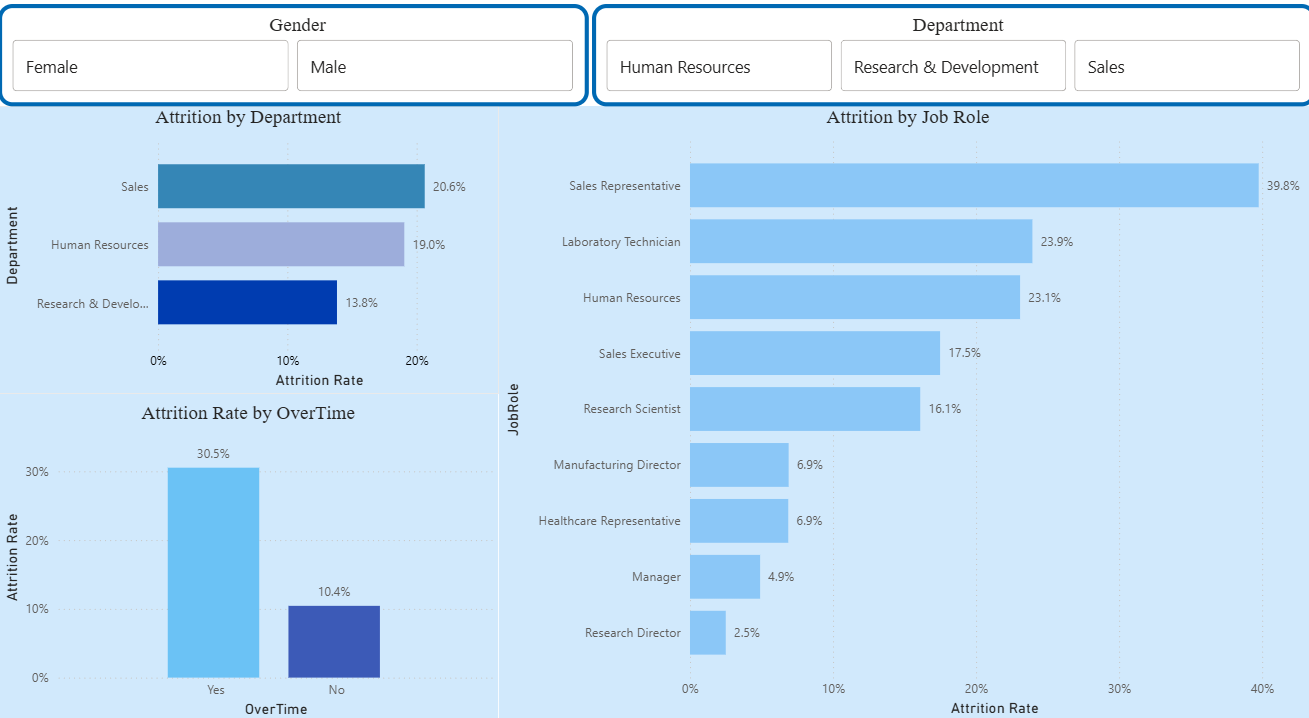

This screenshot's page, from the dashboard's own definition file:
{"tool":"powerbi","page":{"name":"Attrition Analysis","canvas":[1280,720],"ordinal":1},"visuals":[{"type":"clusteredBarChart","title":"Attrition by Department","fields":{"Y":["employee.Attrition Count"],"Category":["employee.Department"]},"box":[0,128.8,450.1,272],"z":0},{"type":"clusteredBarChart","title":"Attrition by Job Role","fields":{"Category":["employee.JobRole"],"Y":["employee.Attrition Rate (%)"]},"box":[476.8,185.7,705.4,451.8],"z":1000},{"type":"clusteredBarChart","fields":{"Category":["employee.OverTime"],"Y":["CountNonNull(employee.Attrition)"]},"box":[0,413.6,427.9,307],"z":2000},{"type":"advancedSlicerVisual","fields":{"Values":["employee.Gender"]},"box":[38.2,23.9,536,98.6],"z":3000},{"type":"advancedSlicerVisual","fields":{"Values":["employee.Department"]},"box":[575,30.4,703.6,91.1],"z":4000}]}

Visuals, with their boxes in screenshot pixels (x1, y1, x2, y2), scaled from the page's 1280x720 canvas onto the 1309x718 screenshot:
"Attrition by Department" clusteredBarChart: box=[0, 128, 460, 400]
"Attrition by Job Role" clusteredBarChart: box=[488, 185, 1209, 636]
clusteredBarChart - employee.OverTime x CountNonNull(employee.Attrition): box=[0, 412, 438, 717]
advancedSlicerVisual - employee.Gender: box=[39, 24, 587, 122]
advancedSlicerVisual - employee.Department: box=[588, 30, 1308, 121]
